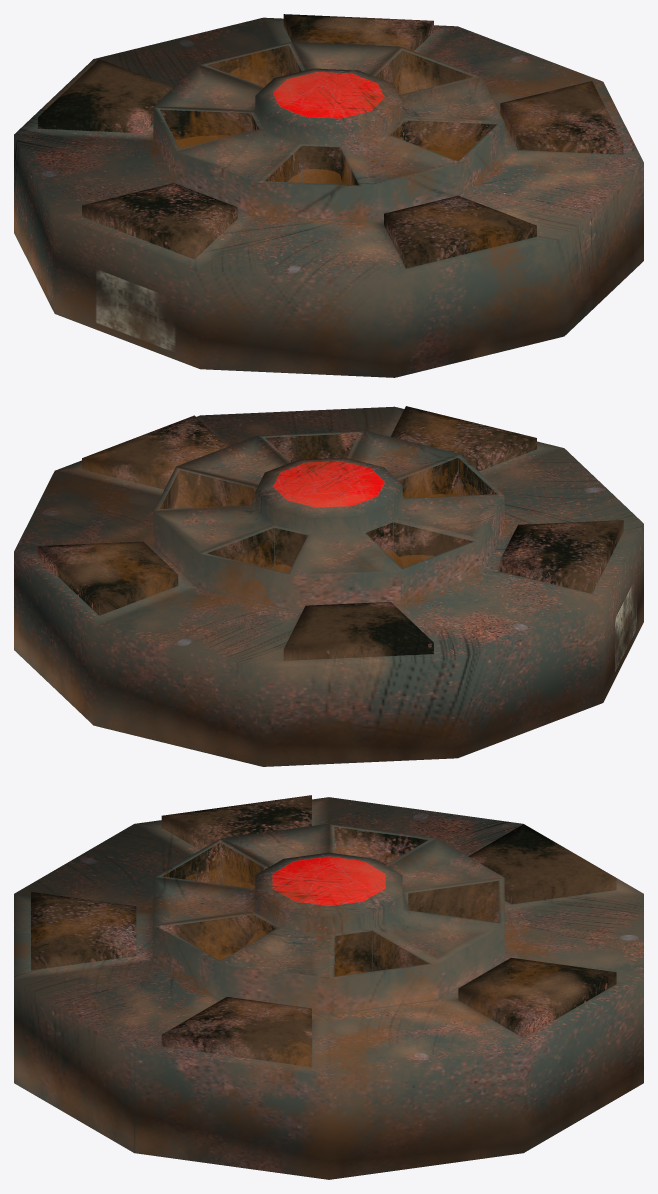
File: Mina.obj
The picture shows the model from 3 angles, top to bottom: view 1: azimuth 30°, elevation 25°; view 2: azimuth 150°, elevation 25°; view 3: azimuth 270°, elevation 25°; orthographic projection. The views are drawn at different scales.
Visible parts, largest first — view 1: Cylinder001; view 2: Cylinder001; view 3: Cylinder001.
Part boxes in pixels (x1,y1,x2,y2): Cylinder001: (14, 14, 643, 377); Cylinder001: (14, 406, 643, 766); Cylinder001: (14, 795, 643, 1179).
Bounding box in the file's own units: 2.6 × 0.6874 × 2.47.
Materials: 1 (1 with a texture image).
